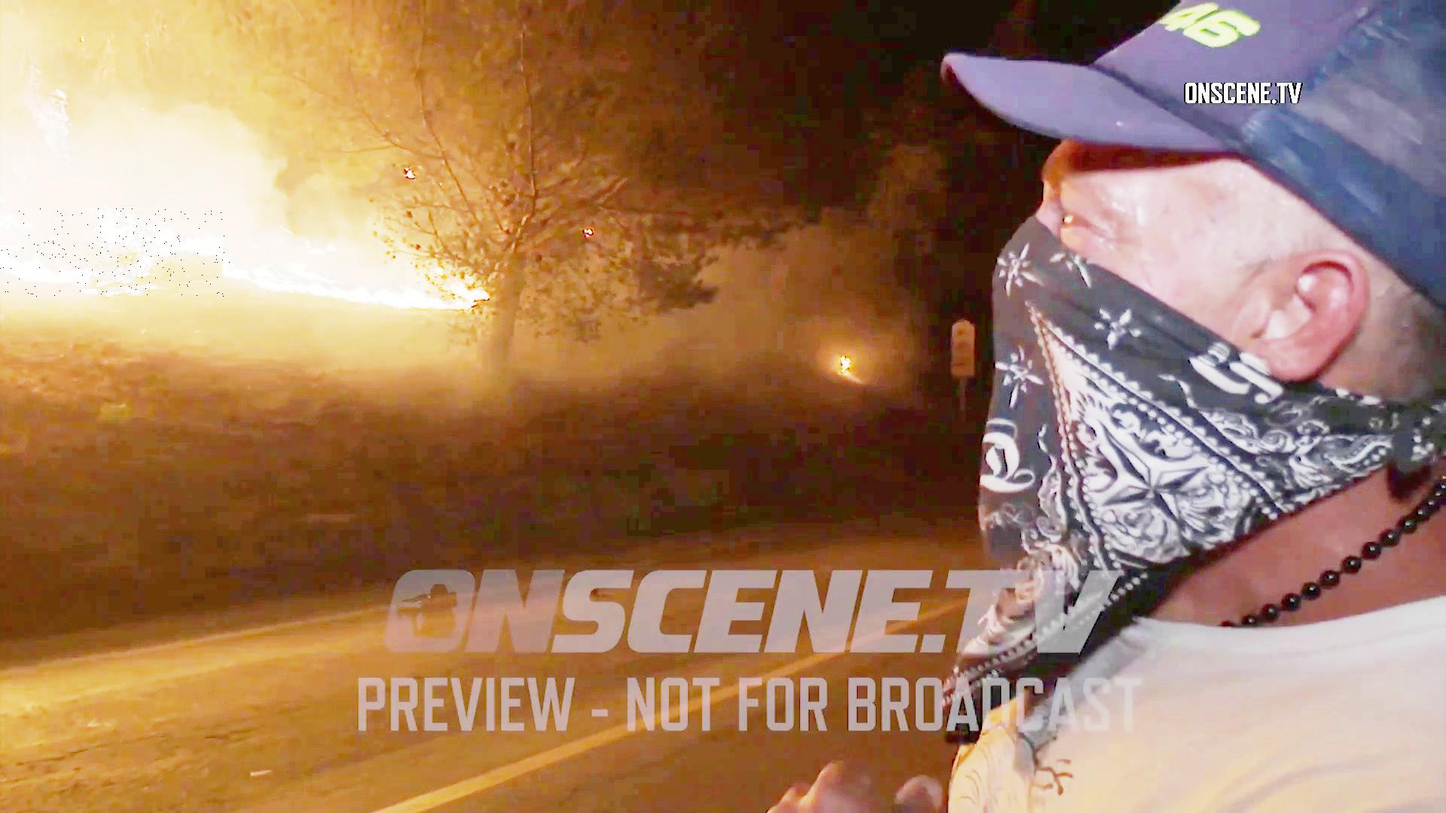fire: (0, 208, 230, 297)
